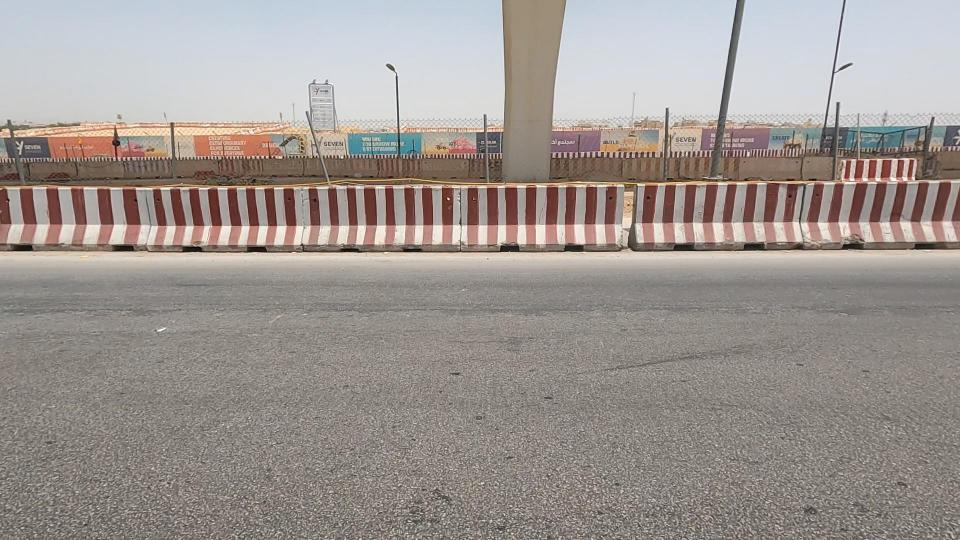CONSTRUCTION_ROAD: (479, 138, 960, 314), (0, 135, 464, 307), (233, 127, 652, 289)
